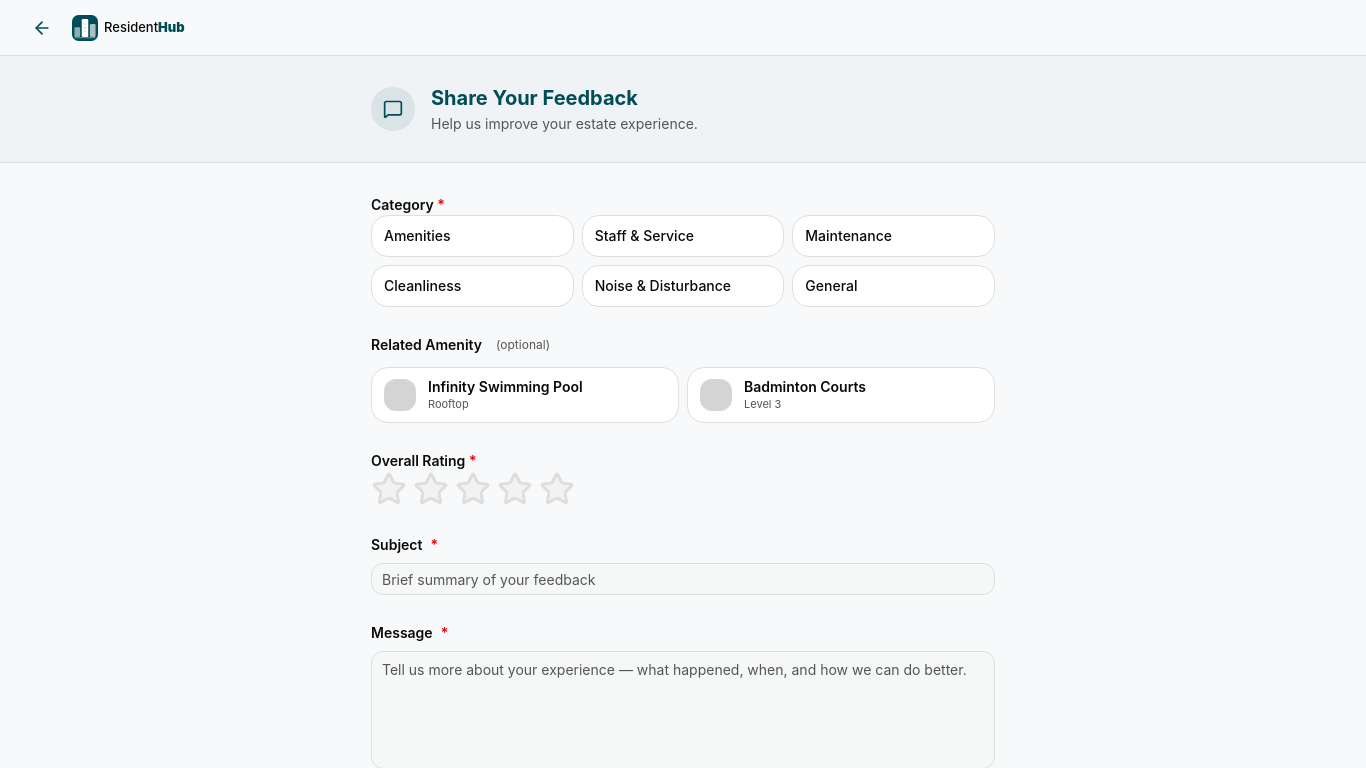
it: FeedbackPage › Submit Another resets back to the form
Click the radio button labelled "General" at (894, 286), box [792,265,995,307]
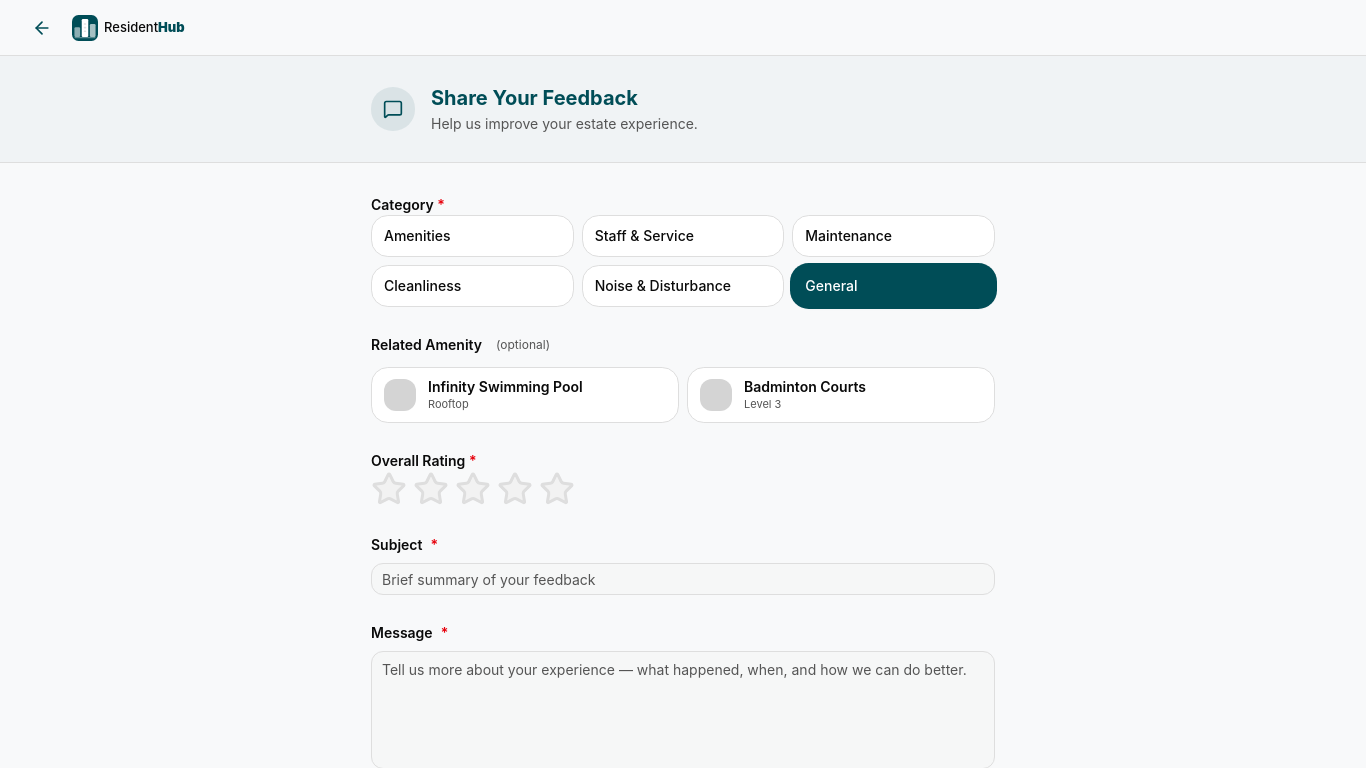
Click the radio button named "4 stars" at (515, 489), box [497,471,533,507]
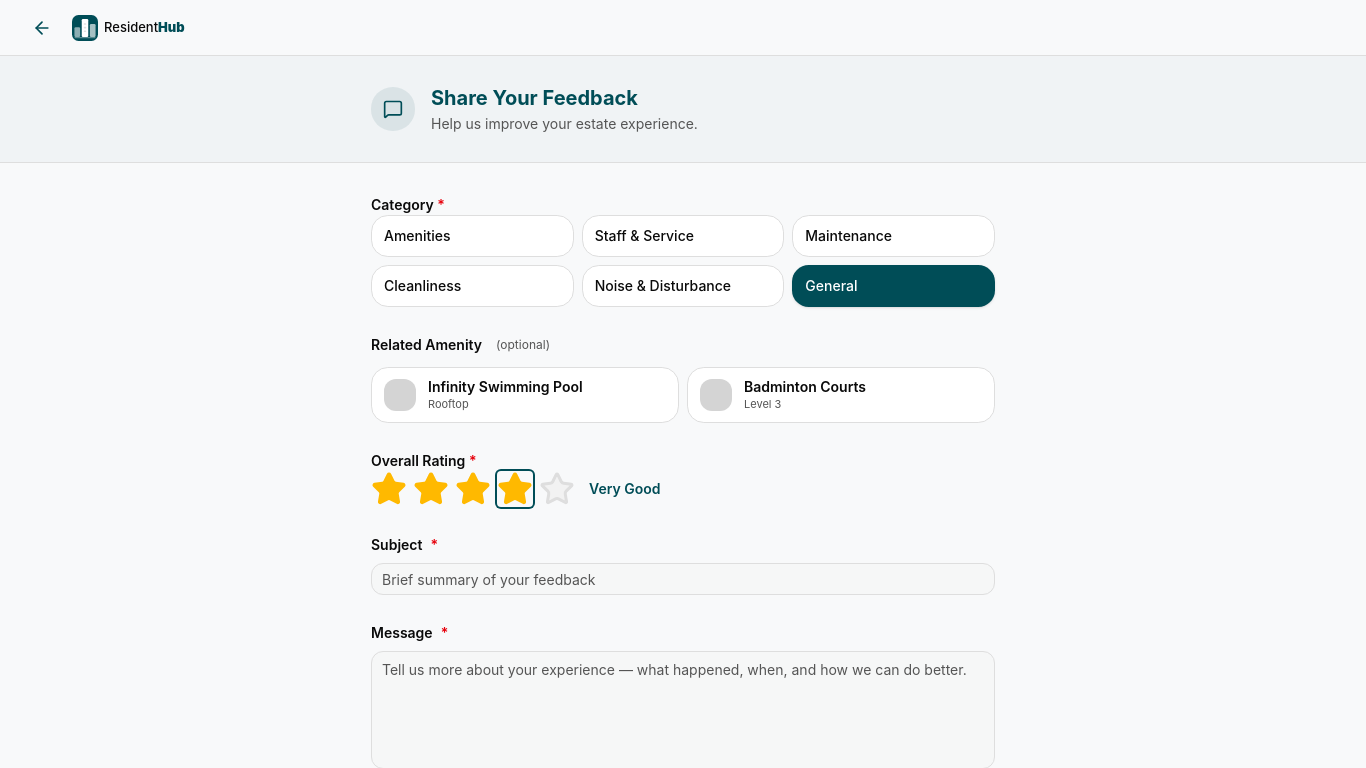
Type "Great facilities overall" into the field labelled "Subject *" at (683, 579), box [371,563,995,595]
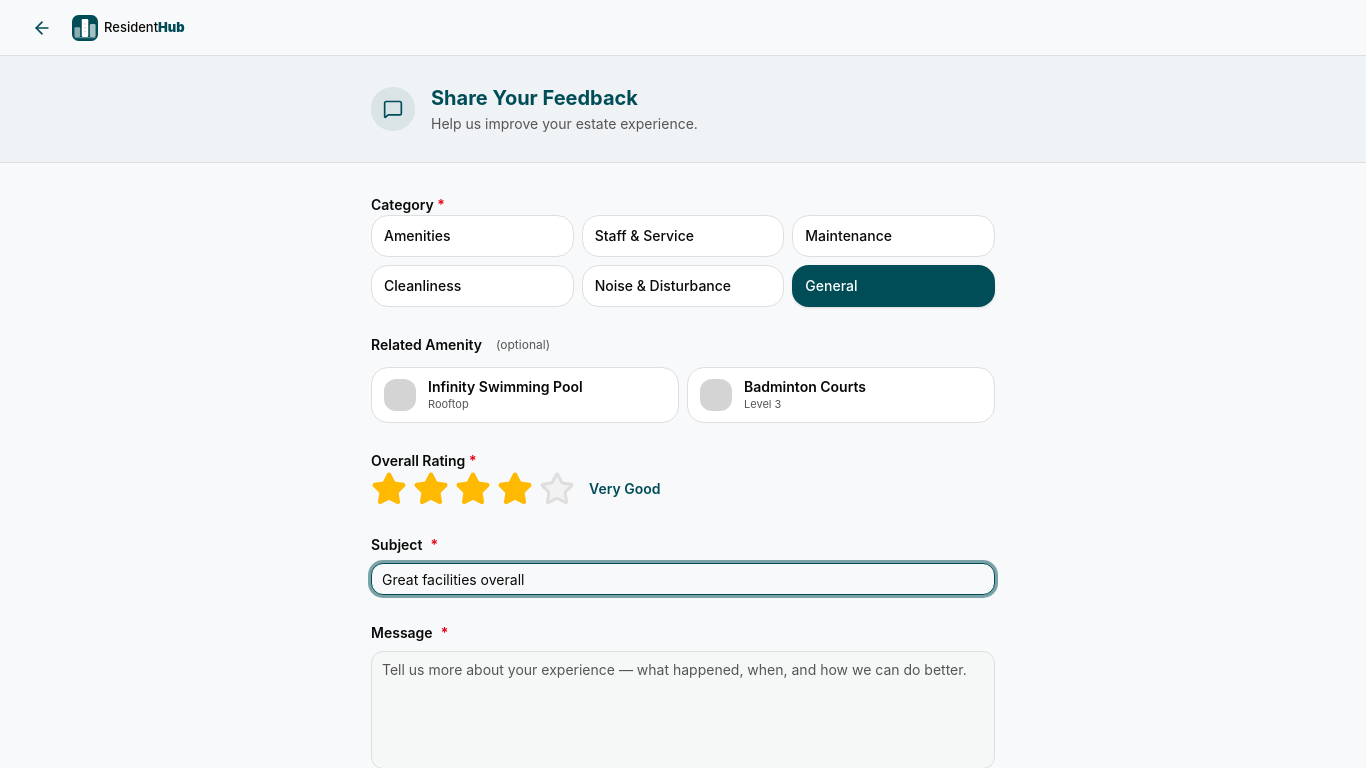
Type "Everything is well-maintained and the staff is very helpful." into the text box labelled "Message *" at (683, 710), box [371,651,995,767]
(page scrolled)
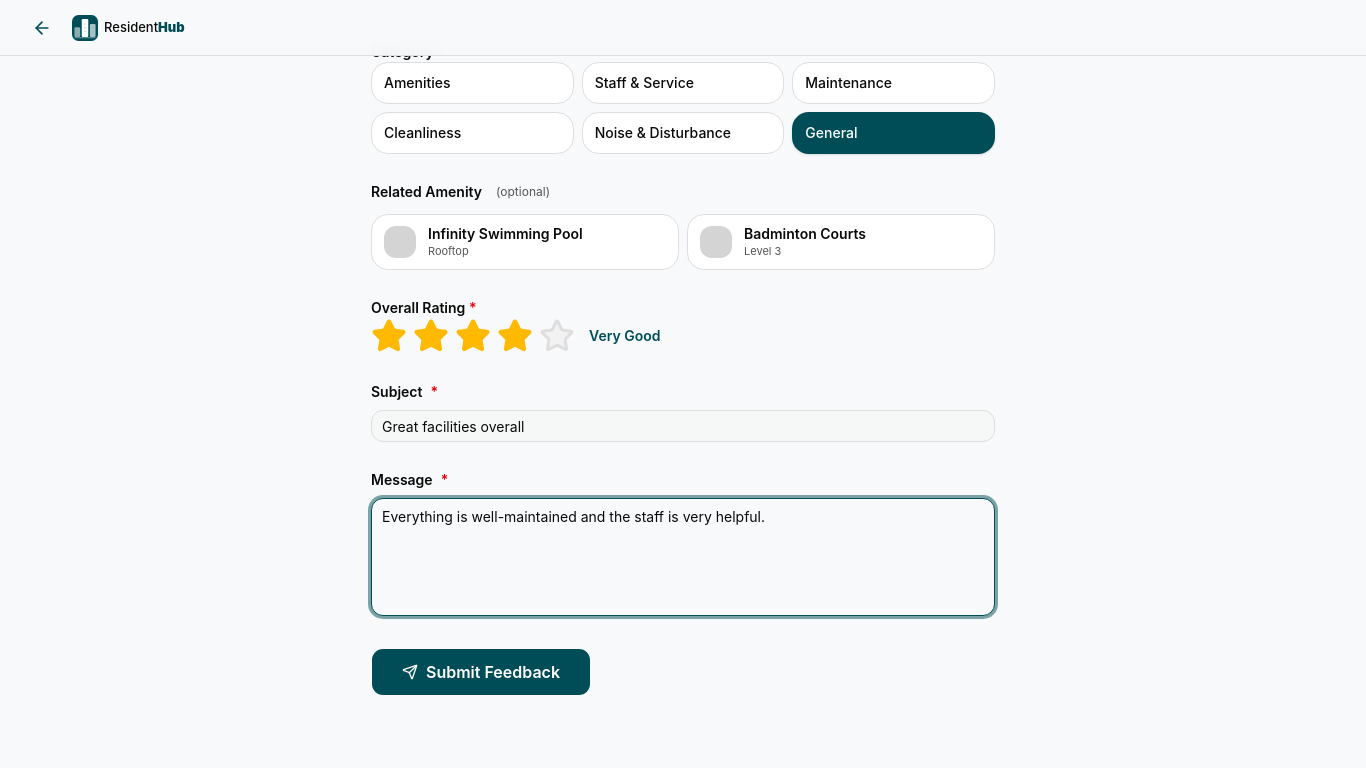
Click the button "Submit Feedback" at (481, 672), box [371,648,591,696]
(page scrolled)
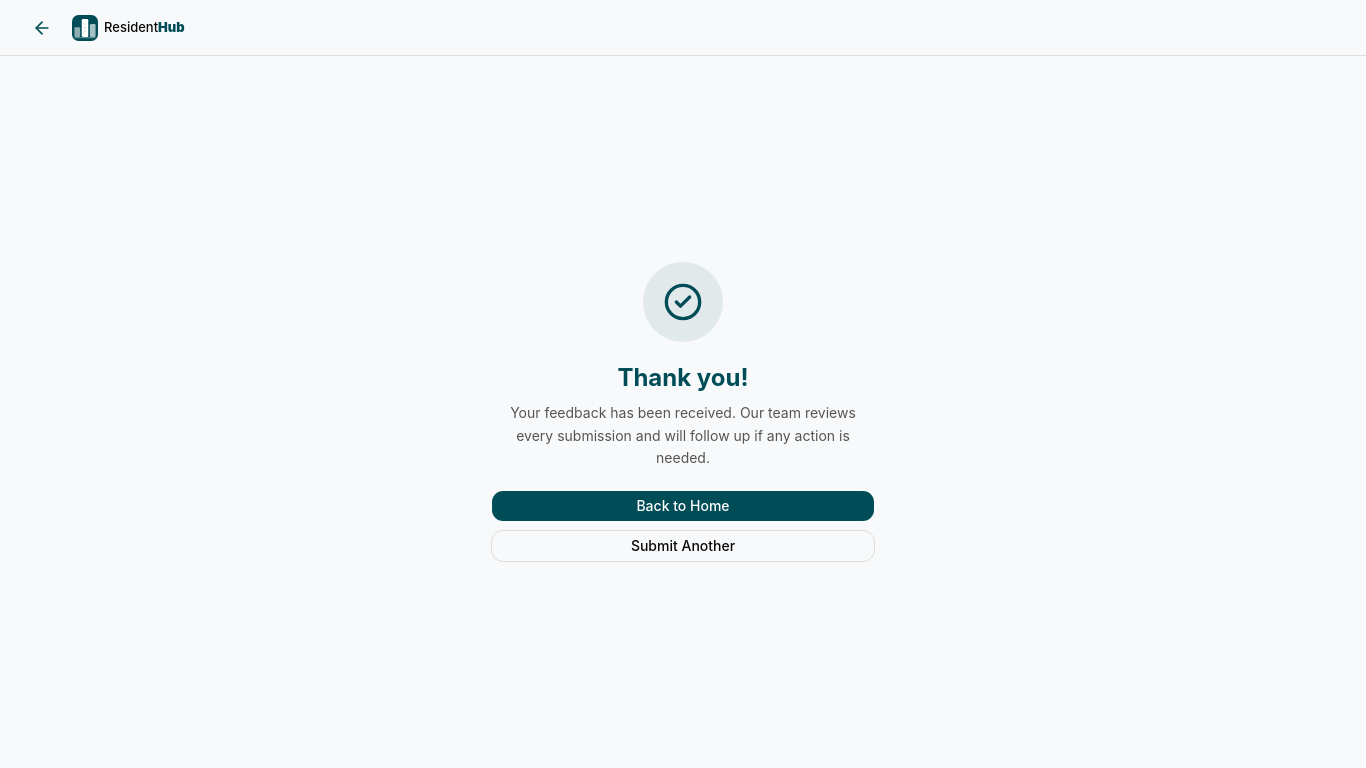
expect the heading "Thank you!" is shown: met, box [617,363,749,392]
Click the button "Submit Another" at (683, 546), box [491,530,875,562]
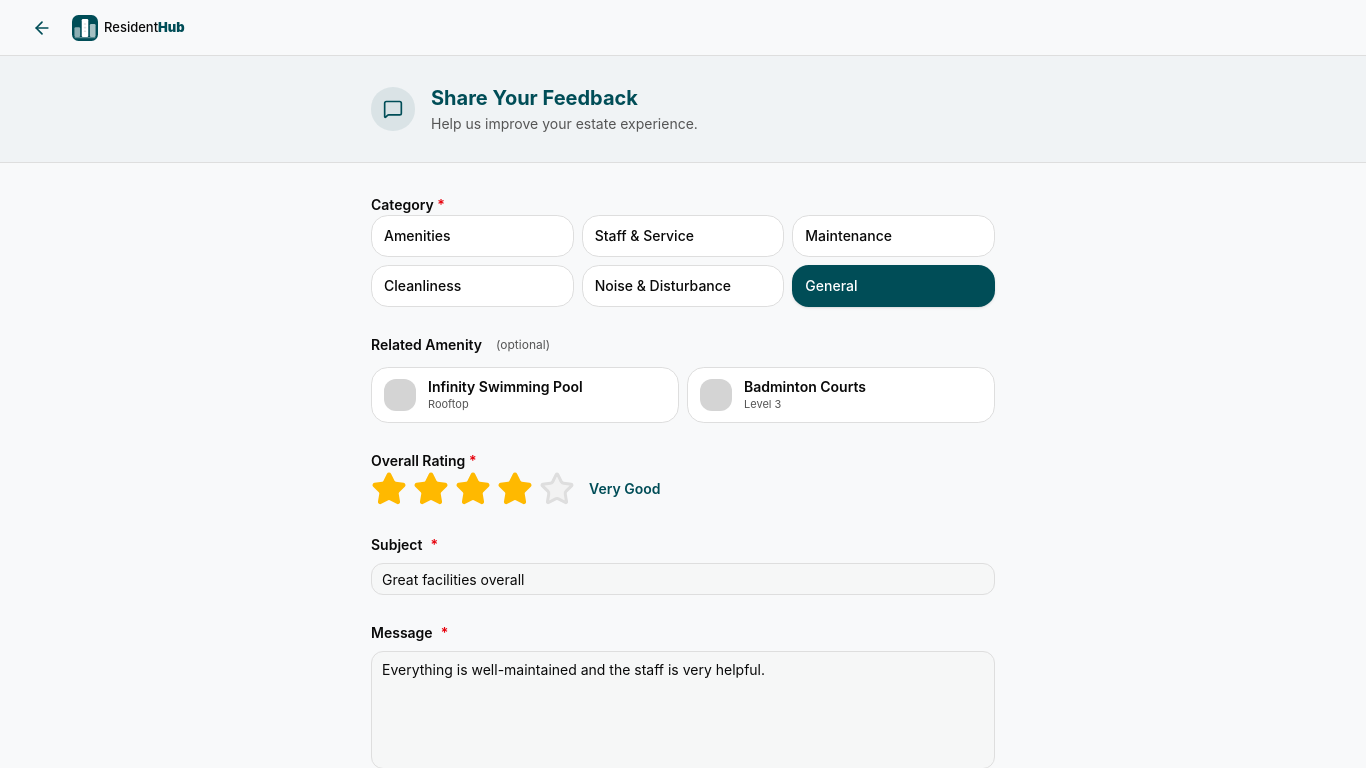
expect the heading "Share Your Feedback" is shown: met, box [431,86,638,110]
